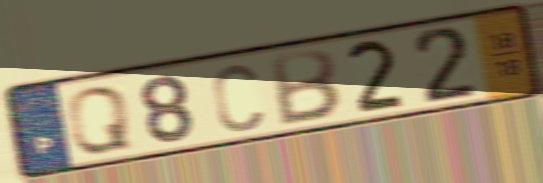2: (413, 25, 482, 107), (346, 37, 406, 114)
8: (138, 74, 198, 144)
B: (268, 46, 344, 129)
C: (209, 62, 267, 136)
Q: (64, 83, 136, 156)
